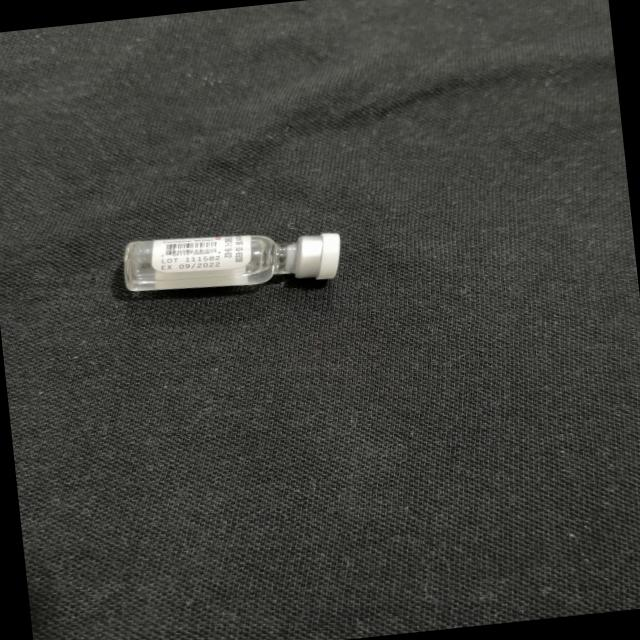fentanl_citrat: (122, 220, 339, 298)
